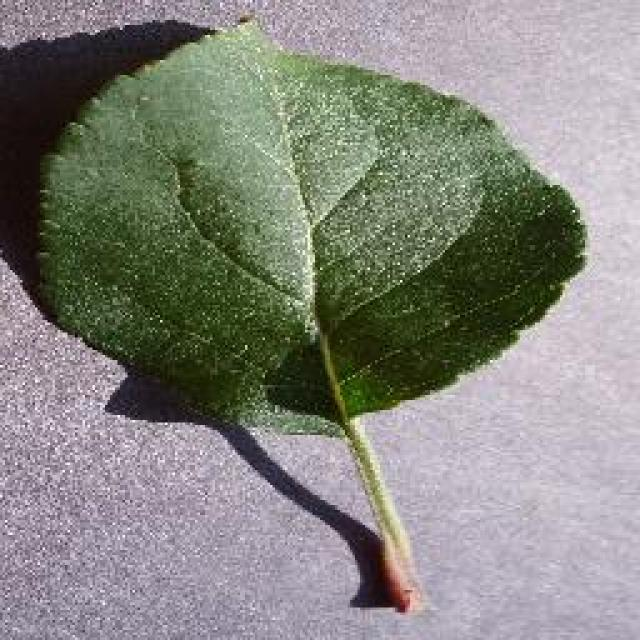Apple___healthy: (10, 5, 600, 630)
